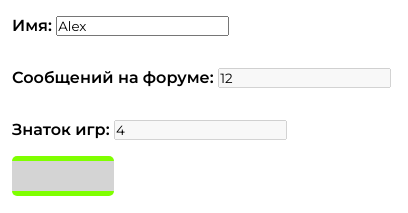
Модуль UserChangedInformation позволяет изменить имя пользователя › Отображается введённый текст
The image size is (408, 213).
Type "AbS" into the field with test id "input_Имя" at [143, 26], box [56, 16, 229, 36]
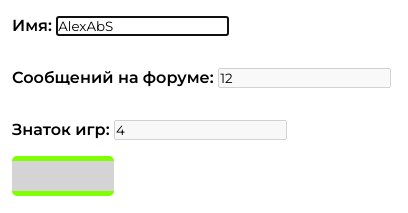
Expected: the field with test id "input_Имя" holds "AlexAbS", [56, 16, 229, 36]
